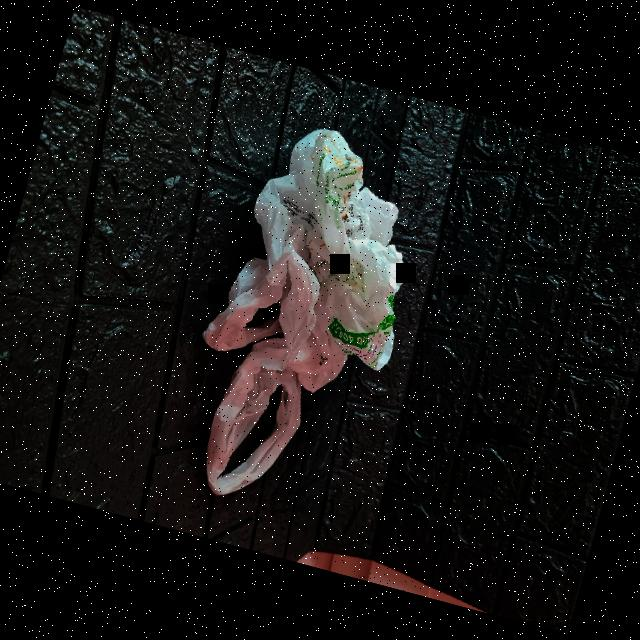plastic_bag: (158, 110, 446, 532)
